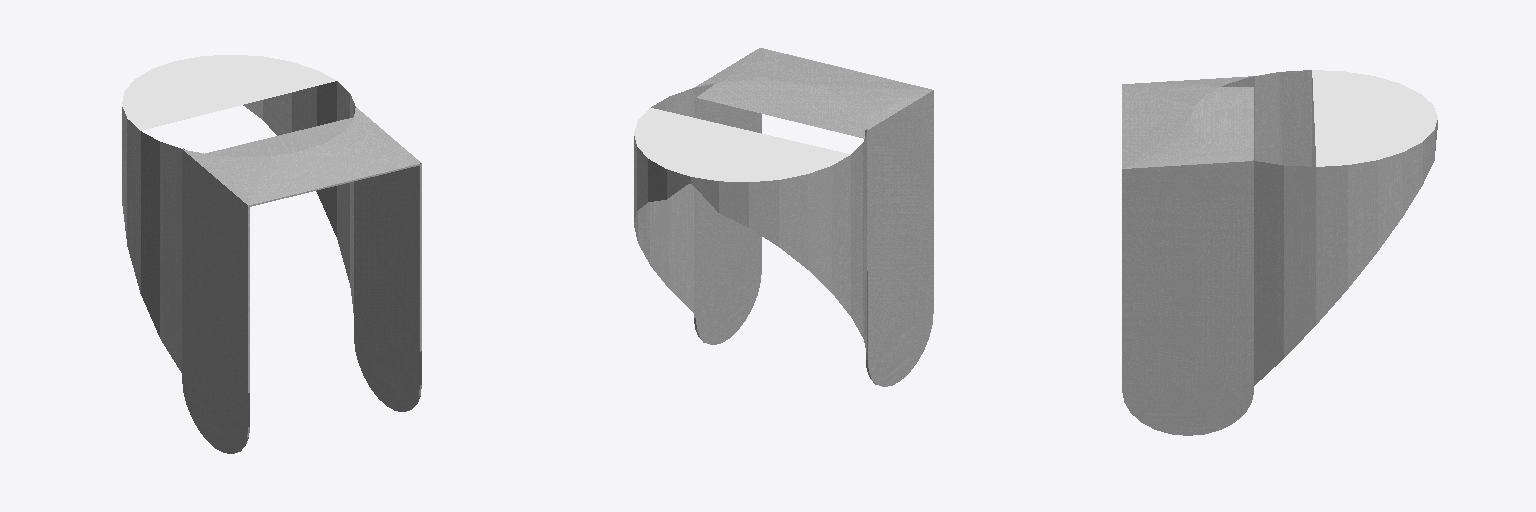
Rendered from original-28.obj.
3 renders of one model, left to right at view 1: azimuth 30°, elevation 25°; view 2: azimuth 150°, elevation 25°; view 3: azimuth 270°, elevation 25°, orthographic.
Visible parts, largest first — view 1: Group20/mesh13/mesh13-geometry#mesh13-geometry; view 2: Group20/mesh13/mesh13-geometry#mesh13-geometry; view 3: Group20/mesh13/mesh13-geometry#mesh13-geometry.
Boxes of the visible parts, box(x1,y1,x2,y2) form: Group20/mesh13/mesh13-geometry#mesh13-geometry: box(122, 55, 421, 453); Group20/mesh13/mesh13-geometry#mesh13-geometry: box(634, 48, 933, 386); Group20/mesh13/mesh13-geometry#mesh13-geometry: box(1122, 70, 1437, 435).
Size of the model in its own units: 0.052 by 0.0687 by 0.0716.